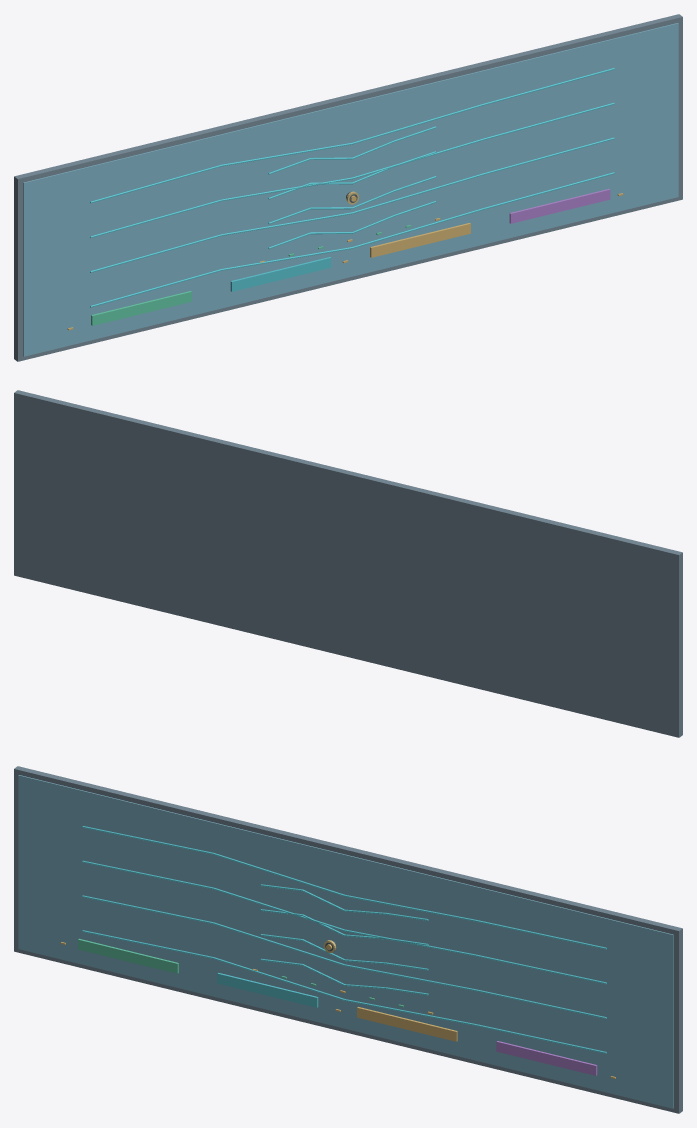
The model's file is 61_L81_HolographicDependabilitySCADA.glb.
3 views of the same model, one above another, from view 1: azimuth 30°, elevation 25°; view 2: azimuth 150°, elevation 25°; view 3: azimuth 330°, elevation 25° (orthographic).
Visible parts, largest first — view 1: HolographicDependabilitySCADA_Node_0001, HolographicDependabilitySCADA_Node_0042, HolographicDependabilitySCADA_Node_0000, HolographicDependabilitySCADA_Node_0040, HolographicDependabilitySCADA_Node_0038, HolographicDependabilitySCADA_Node_0039, HolographicDependabilitySCADA_Node_0037; view 2: HolographicDependabilitySCADA_Node_0000, HolographicDependabilitySCADA_Node_0041; view 3: HolographicDependabilitySCADA_Node_0001, HolographicDependabilitySCADA_Node_0042, HolographicDependabilitySCADA_Node_0000, HolographicDependabilitySCADA_Node_0038, HolographicDependabilitySCADA_Node_0040, HolographicDependabilitySCADA_Node_0037, HolographicDependabilitySCADA_Node_0039.
Part boxes in pixels (x1,y1,x2,y2): HolographicDependabilitySCADA_Node_0001: (23,23,678,356); HolographicDependabilitySCADA_Node_0042: (247,102,455,276); HolographicDependabilitySCADA_Node_0000: (14,14,682,361); HolographicDependabilitySCADA_Node_0040: (509,189,610,223); HolographicDependabilitySCADA_Node_0038: (230,257,331,291); HolographicDependabilitySCADA_Node_0039: (370,223,470,257); HolographicDependabilitySCADA_Node_0037: (91,291,191,325); HolographicDependabilitySCADA_Node_0000: (14,390,682,737); HolographicDependabilitySCADA_Node_0041: (237,472,456,658); HolographicDependabilitySCADA_Node_0001: (18,775,673,1108); HolographicDependabilitySCADA_Node_0042: (241,854,449,1028); HolographicDependabilitySCADA_Node_0000: (14,766,682,1113); HolographicDependabilitySCADA_Node_0038: (217,973,318,1007); HolographicDependabilitySCADA_Node_0040: (496,1041,597,1075); HolographicDependabilitySCADA_Node_0037: (78,938,178,973); HolographicDependabilitySCADA_Node_0039: (357,1007,457,1041).
Size of the model in its own units: 7.01 by 1.84 by 0.2685.
